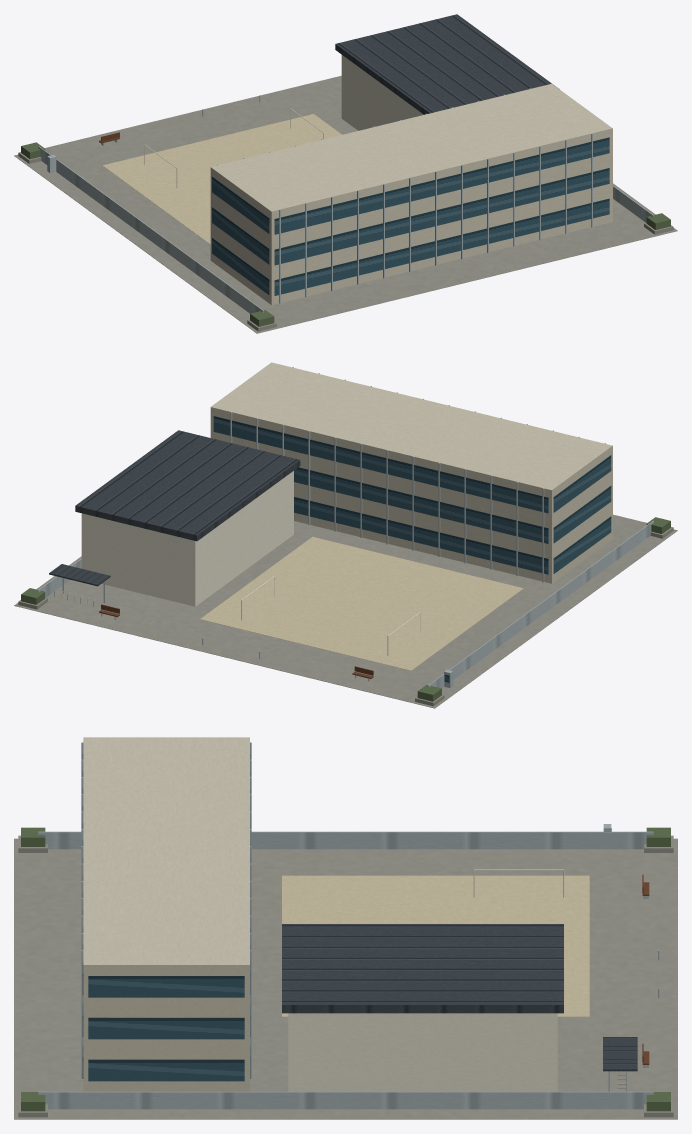
The model's file is school_001.obj.
The picture shows the model from 3 angles, top to bottom: view 1: azimuth 30°, elevation 25°; view 2: azimuth 150°, elevation 25°; view 3: azimuth 270°, elevation 25°; orthographic projection. The views are drawn at different scales.
Parts seen in each view (by area): view 1: school_001; view 2: school_001; view 3: school_001.
Boxes of the visible parts, x1,y1,x2,y2 form: school_001: (14,14,677,333); school_001: (14,362,677,708); school_001: (14,737,677,1119).
Bounding box in the file's own units: 51.8 × 11.04 × 51.8.
Materials: 1 (1 with a texture image).
